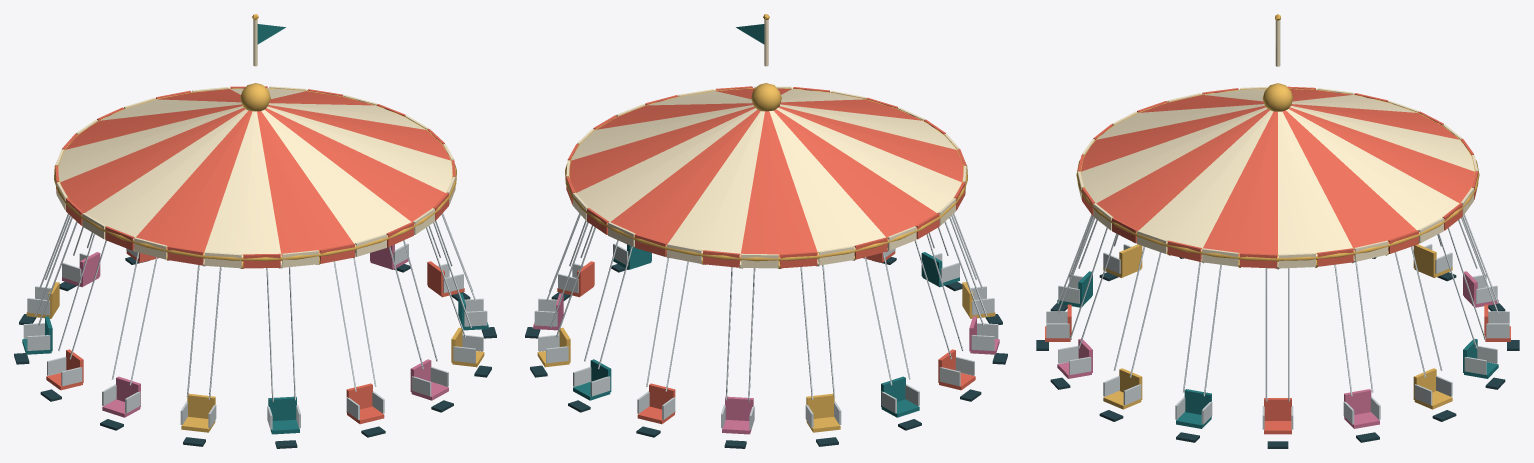
Rendered from ride_swings_motion.glb.
3 views of the same model, side by side, from view 1: azimuth 30°, elevation 25°; view 2: azimuth 150°, elevation 25°; view 3: azimuth 270°, elevation 25° (orthographic).
Visible parts, largest first — view 1: ride_swings_motion; view 2: ride_swings_motion; view 3: ride_swings_motion.
Part boxes in pixels (left/top/right/bottom): ride_swings_motion: left=14, top=14, right=496, bottom=448; ride_swings_motion: left=525, top=14, right=1007, bottom=448; ride_swings_motion: left=1036, top=14, right=1519, bottom=448.
Bounding box in the file's own units: 9.43 × 7.14 × 9.43.
